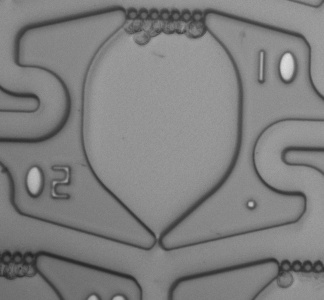AptNum: (241, 45, 303, 90)
Marker: (236, 191, 266, 218)
StNum: (16, 160, 78, 210)
Trap: (136, 237, 180, 279)
